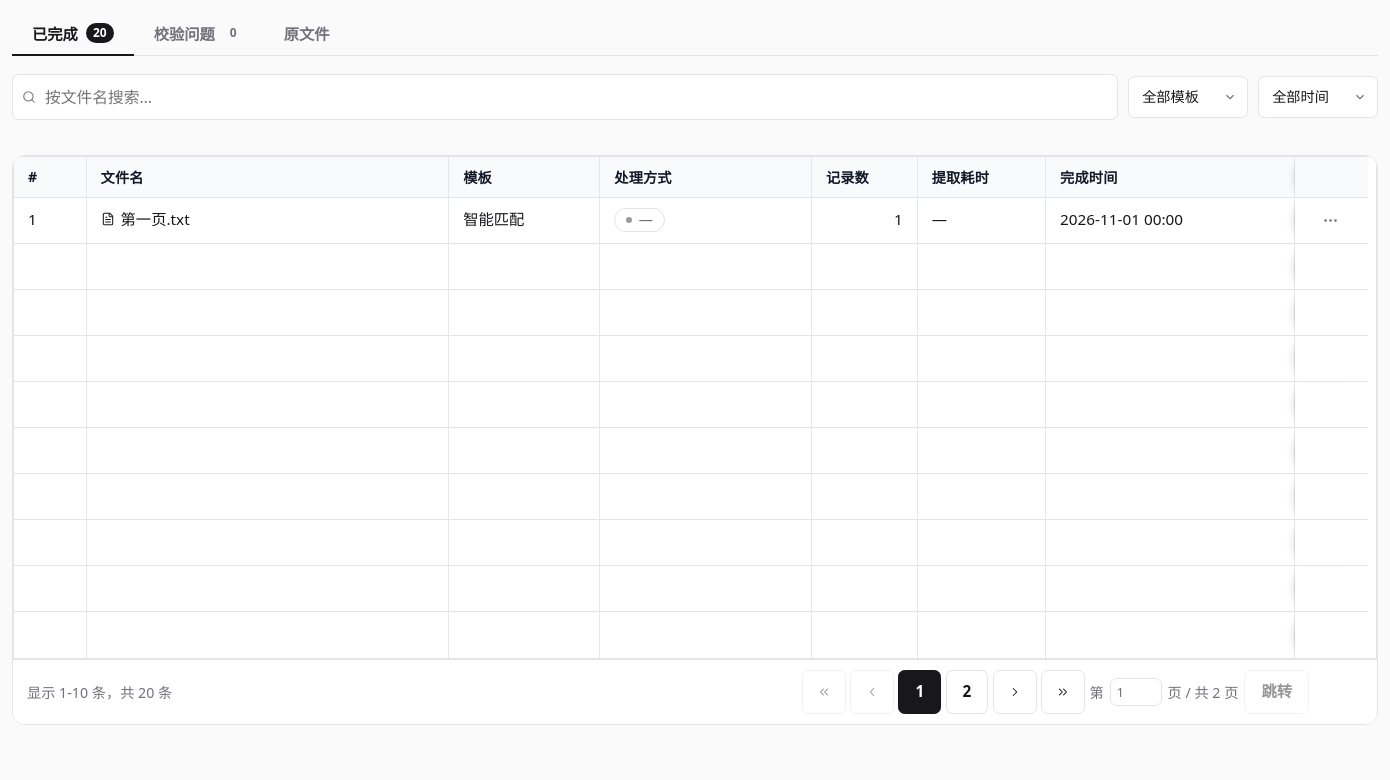
Scenario: starts a new history filter at page one instead of keeping the previous result offset
This screenshot has width=1390, height=780.
Expected: the text "第一页.txt" is shown, [120, 210, 190, 229]
Click the button titled "下一页": (1015, 692) [993, 670, 1037, 714]
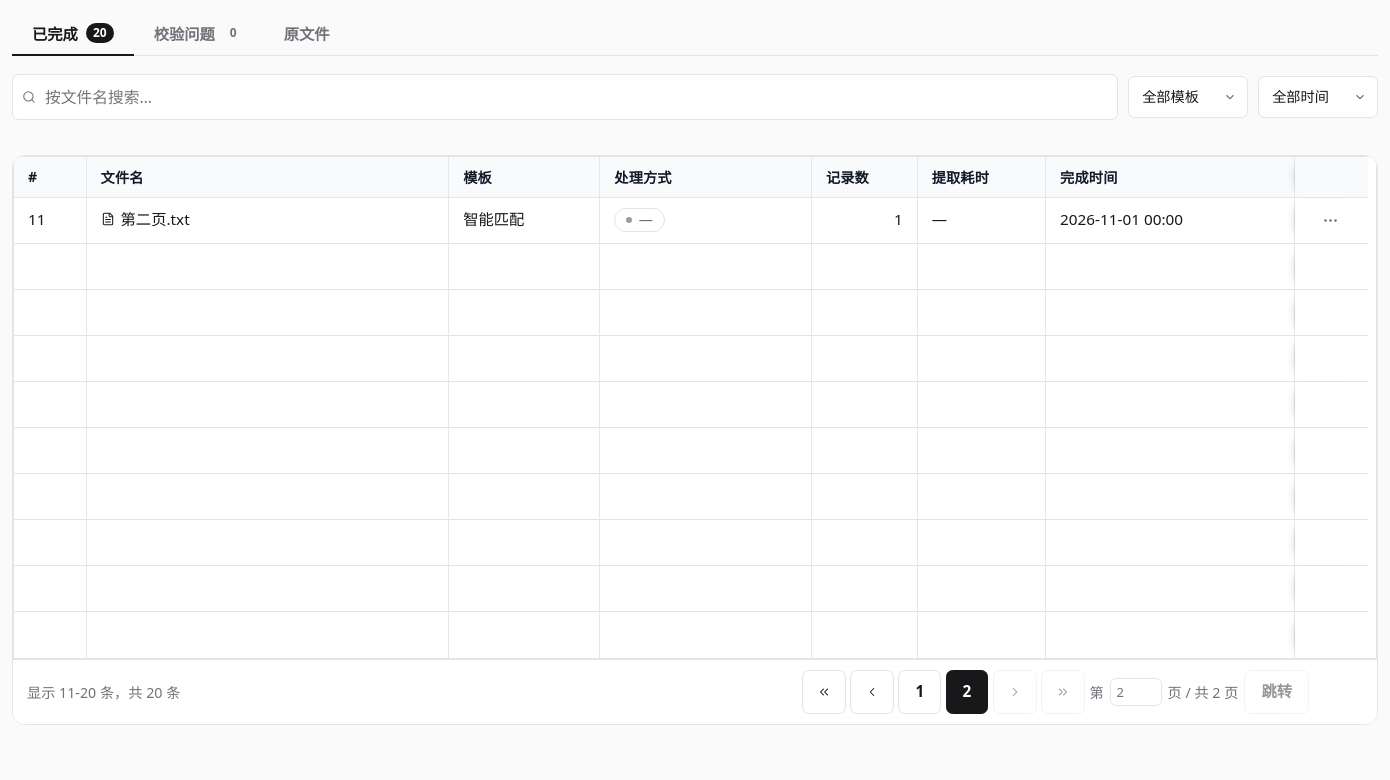
Expected: the text "第二页.txt" is shown, [120, 210, 190, 229]
In the field labelled "按文件名搜索": (565, 96) [12, 74, 1118, 120], type "命中"
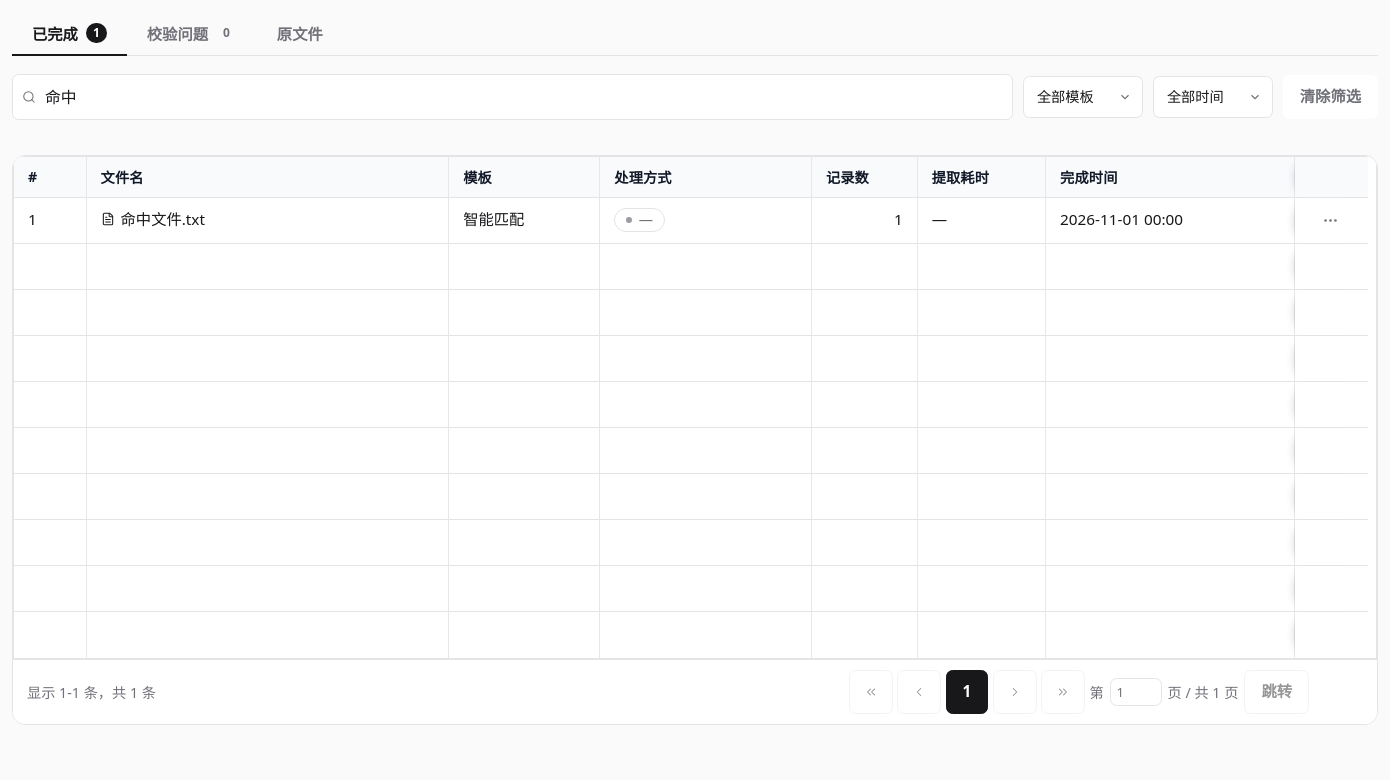
Expected: the text "命中文件.txt" is shown, [120, 210, 205, 229]
Expected: the text "显示 1-1 条，共 1 条" is shown, [27, 682, 156, 702]
